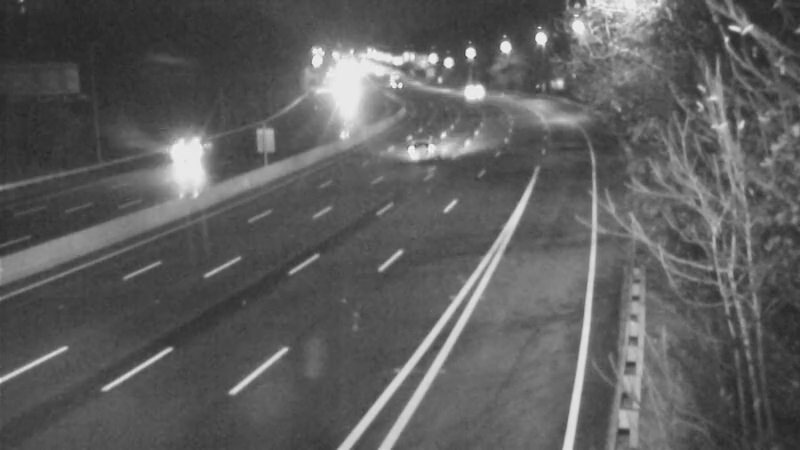vehicle: (380, 111, 460, 191), (145, 120, 225, 200), (367, 56, 417, 106), (446, 69, 496, 119)
